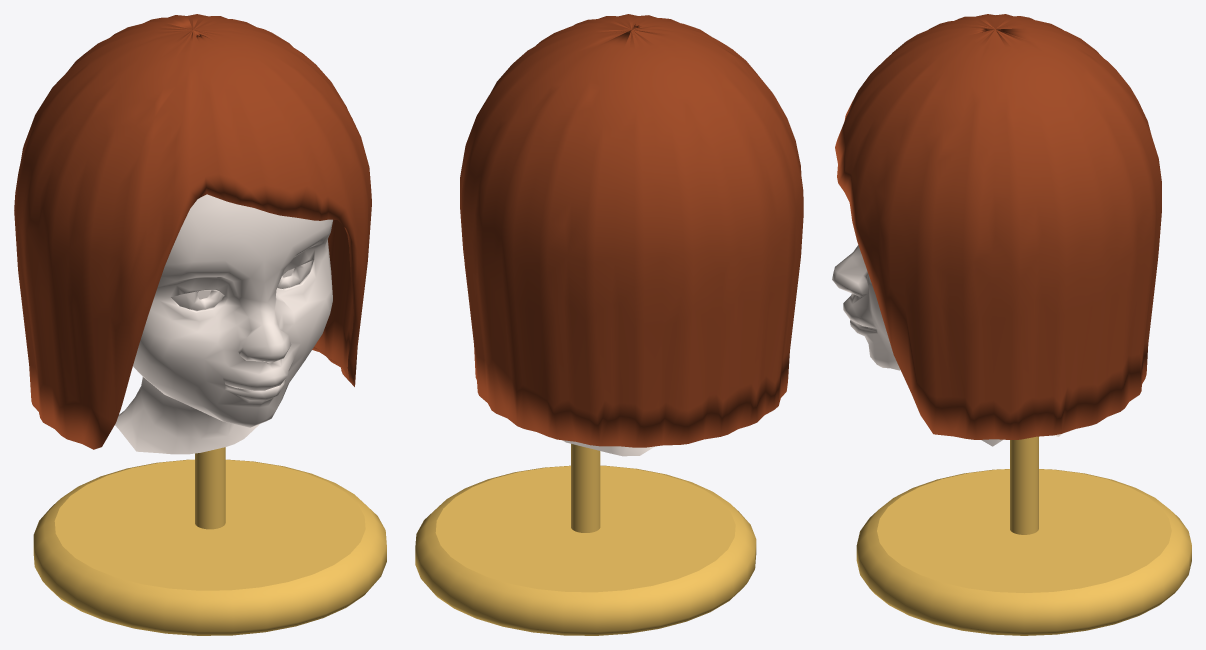
Rendered from rain.hair.chestnut-bob.glb.
3 renders of one model, left to right at view 1: azimuth 30°, elevation 25°; view 2: azimuth 150°, elevation 25°; view 3: azimuth 270°, elevation 25°, orthographic. The views are drawn at different scales.
Visible parts, largest first — view 1: Fit.Hair.chestnut-bob.Shell, stand_base, GEO-rain-head, stand_stem, GEO-rain-eyes; view 2: Fit.Hair.chestnut-bob.Shell, stand_base, stand_stem, GEO-rain-head; view 3: Fit.Hair.chestnut-bob.Shell, stand_base, GEO-rain-head, stand_stem.
Boxes of the visible parts, x1,y1,x2,y2 form: Fit.Hair.chestnut-bob.Shell: [14, 14, 371, 449]; stand_base: [33, 459, 386, 635]; GEO-rain-head: [115, 194, 332, 454]; stand_stem: [195, 447, 225, 529]; GEO-rain-eyes: [171, 261, 311, 310]; Fit.Hair.chestnut-bob.Shell: [460, 14, 803, 447]; stand_base: [415, 465, 756, 635]; stand_stem: [571, 444, 600, 532]; GEO-rain-head: [563, 440, 654, 456]; Fit.Hair.chestnut-bob.Shell: [835, 14, 1161, 439]; stand_base: [856, 469, 1191, 635]; GEO-rain-head: [832, 245, 1061, 446]; stand_stem: [1010, 436, 1038, 534].
Size of the model in its own units: 0.4785 by 0.75 by 0.4624.
